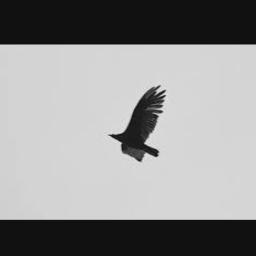Crow: (107, 84, 166, 162)
